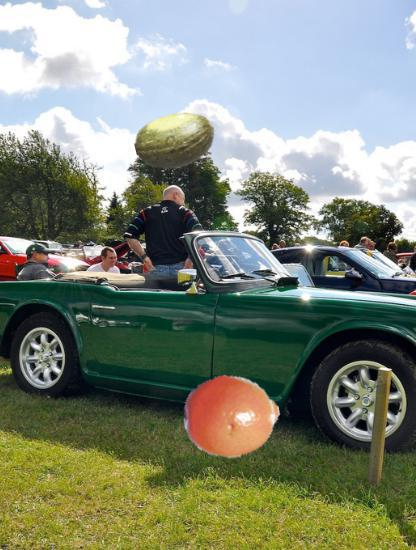Melon: (135, 100, 217, 182)
Tangelo: (184, 368, 280, 464)
